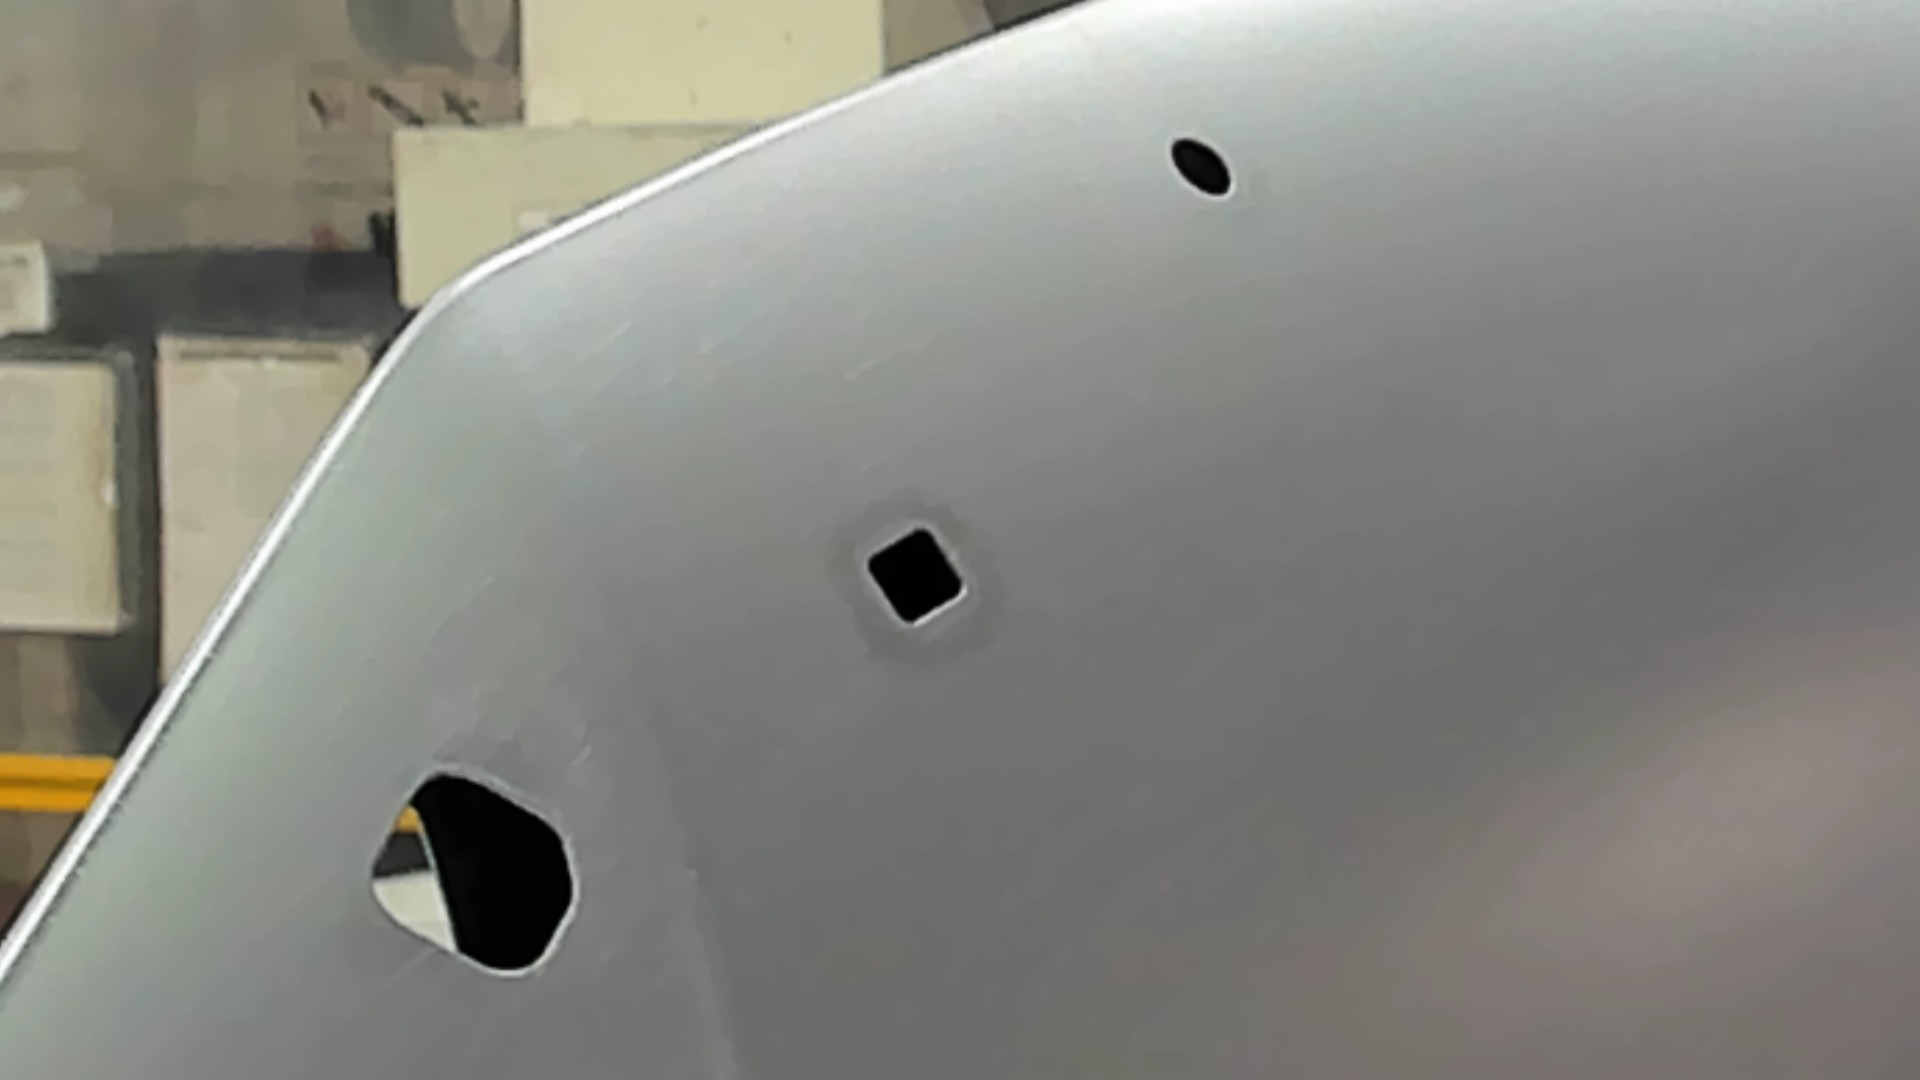chico: (1164, 128, 1237, 203)
grande: (357, 764, 584, 988)
mediano: (855, 520, 973, 632)
